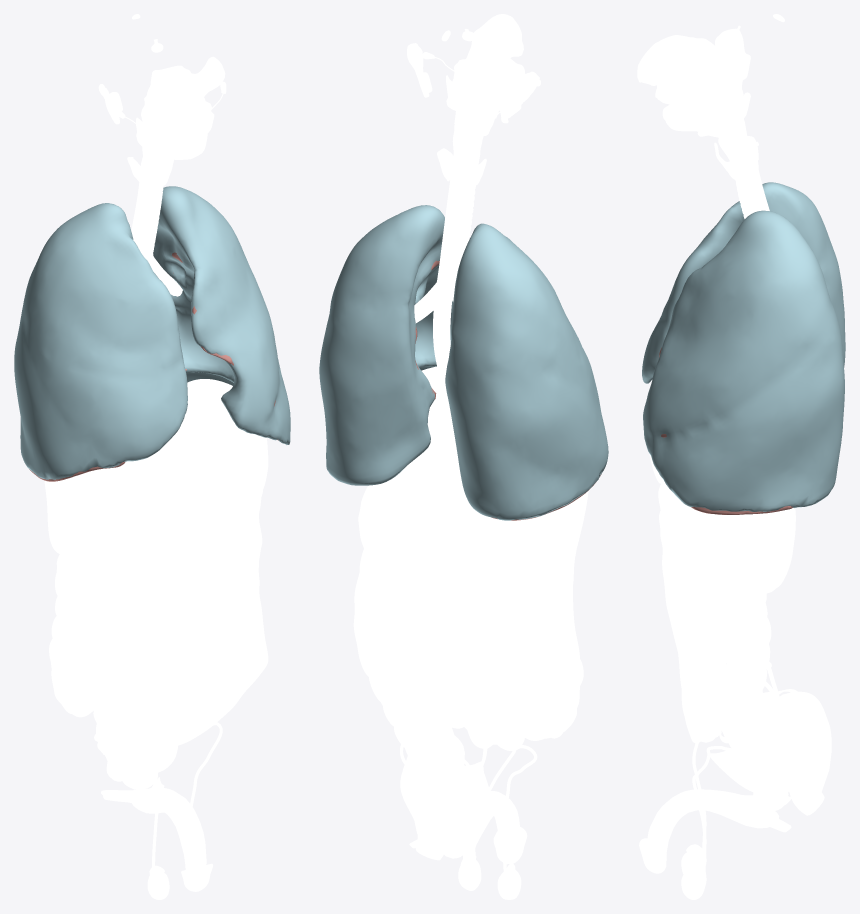
Rendered from organs.glb.
3 views of the same model, side by side, from view 1: azimuth 30°, elevation 25°; view 2: azimuth 150°, elevation 25°; view 3: azimuth 270°, elevation 25° (orthographic). The views are drawn at different scales.
Parts seen in each view (by area): view 1: Pleura, Greater omentum, Liver, Ascending colon, Corpus cavernosum of penis, Stomach, Gingiva, Mucosa of nasal cavity, Urinary bladder, Trachea, Mucosa of stomach, Parotid gland.l (+4 smaller); view 2: Pleura, Jejunum, Ascending colon, Descending colon, Sigmoid colon, Liver, Kidney.l, Oesophagus, Kidney.r, Stomach, Oropharynx, Corpus cavernosum of penis (+19 smaller); view 3: Pleura, Greater omentum, Descending colon, Sigmoid colon, Corpus cavernosum of penis, Mucosa of nasal cavity, Kidney.l, Urinary bladder, Gingiva, Mesocolic taenia, Nasopharynx, Stomach (+13 smaller).
Boxes of the visible parts, x1,y1,x2,y2 form: Pleura: (14, 186, 290, 479); Greater omentum: (65, 493, 268, 747); Liver: (44, 379, 260, 556); Ascending colon: (49, 554, 97, 717); Corpus cavernosum of penis: (101, 777, 206, 869); Stomach: (170, 436, 268, 533); Gingiva: (136, 101, 211, 159); Mucosa of nasal cavity: (159, 65, 210, 128); Urinary bladder: (102, 731, 177, 775); Trachea: (133, 184, 163, 260); Mucosa of stomach: (227, 461, 263, 509); Parotid gland.l: (191, 56, 225, 96); Pleura: (319, 205, 608, 520); Jejunum: (390, 527, 543, 750); Ascending colon: (520, 564, 583, 738); Descending colon: (355, 549, 464, 776); Sigmoid colon: (400, 727, 464, 860); Liver: (421, 366, 588, 573); Kidney.l: (358, 482, 419, 574); Oesophagus: (433, 165, 469, 438); Kidney.r: (486, 523, 535, 616); Stomach: (407, 413, 462, 484); Oropharynx: (451, 72, 520, 129); Corpus cavernosum of penis: (409, 791, 520, 862); Pleura: (642, 182, 845, 511); Greater omentum: (659, 511, 728, 743); Descending colon: (717, 533, 796, 755); Sigmoid colon: (781, 691, 831, 815); Corpus cavernosum of penis: (646, 789, 791, 854); Mucosa of nasal cavity: (637, 35, 706, 87); Kidney.l: (755, 508, 795, 593); Urinary bladder: (710, 748, 797, 794); Gingiva: (655, 81, 718, 131); Mesocolic taenia: (721, 536, 794, 739); Nasopharynx: (705, 39, 743, 89); Stomach: (658, 483, 740, 537).
Bounding box in the file's own units: 0.2633 × 0.8929 × 0.1926.
